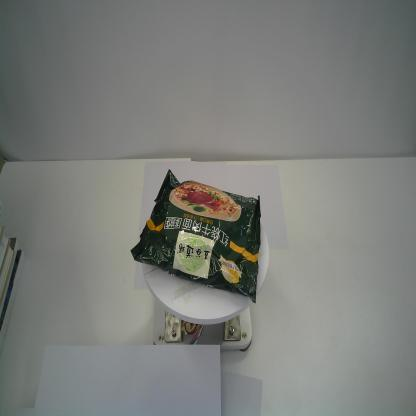Instant Noodles: (130, 166, 262, 306)
